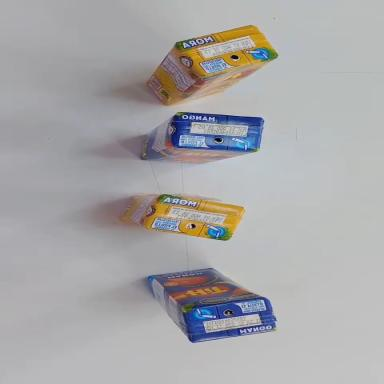HIT-MANGO: (148, 260, 278, 347), (141, 110, 263, 168)
HIT-MORA: (138, 15, 283, 112), (120, 189, 245, 243)
cara_F: (151, 261, 266, 313), (164, 57, 282, 106), (141, 145, 257, 167)
